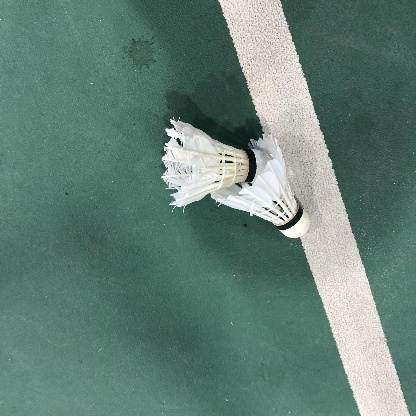ball_single: (161, 119, 310, 239)
